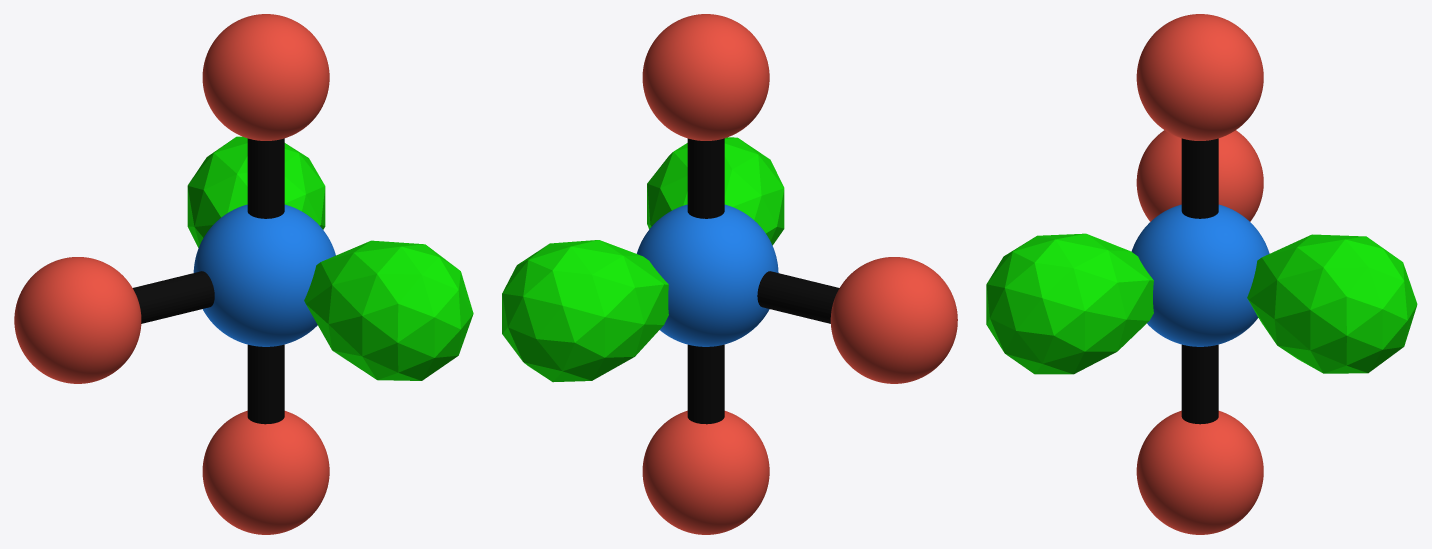
The model's file is chem stru_tbp_t shape_2lp.glb.
3 renders of one model, left to right at view 1: azimuth 30°, elevation 25°; view 2: azimuth 150°, elevation 25°; view 3: azimuth 270°, elevation 25°, orthographic.
Parts seen in each view (by area): view 1: Icosphere, Sphere, Sphere.003, Sphere.004, Sphere.005, Icosphere.001, Cylinder.003, Cylinder.004, Cylinder.001; view 2: Icosphere.001, Sphere, Sphere.003, Sphere.004, Sphere.005, Icosphere, Cylinder.003, Cylinder.004, Cylinder.001; view 3: Icosphere, Icosphere.001, Sphere, Sphere.004, Sphere.005, Sphere.003, Cylinder.003, Cylinder.004.
Part boxes in pixels (bbox=[...]): Icosphere: bbox=[304, 240, 473, 380]; Sphere: bbox=[193, 204, 335, 346]; Sphere.003: bbox=[14, 257, 141, 383]; Sphere.004: bbox=[202, 14, 329, 140]; Sphere.005: bbox=[202, 410, 329, 534]; Icosphere.001: bbox=[187, 136, 325, 247]; Cylinder.003: bbox=[247, 138, 284, 218]; Cylinder.004: bbox=[247, 344, 284, 424]; Cylinder.001: bbox=[133, 271, 214, 323]; Icosphere.001: bbox=[502, 240, 668, 382]; Sphere: bbox=[636, 204, 778, 346]; Sphere.003: bbox=[830, 257, 957, 383]; Sphere.004: bbox=[642, 14, 769, 140]; Sphere.005: bbox=[642, 410, 769, 534]; Icosphere: bbox=[647, 137, 784, 245]; Cylinder.003: bbox=[687, 138, 724, 218]; Cylinder.004: bbox=[687, 344, 724, 424]; Cylinder.001: bbox=[757, 271, 839, 323]; Icosphere: bbox=[986, 233, 1153, 374]; Icosphere.001: bbox=[1247, 234, 1417, 373]; Sphere: bbox=[1131, 204, 1269, 346]; Sphere.004: bbox=[1136, 14, 1263, 140]; Sphere.005: bbox=[1136, 410, 1263, 534]; Sphere.003: bbox=[1136, 130, 1263, 221]; Cylinder.003: bbox=[1181, 138, 1218, 218]; Cylinder.004: bbox=[1181, 344, 1218, 424].
Bounding box in the file's own units: 3.72 × 4.9 × 3.76.
